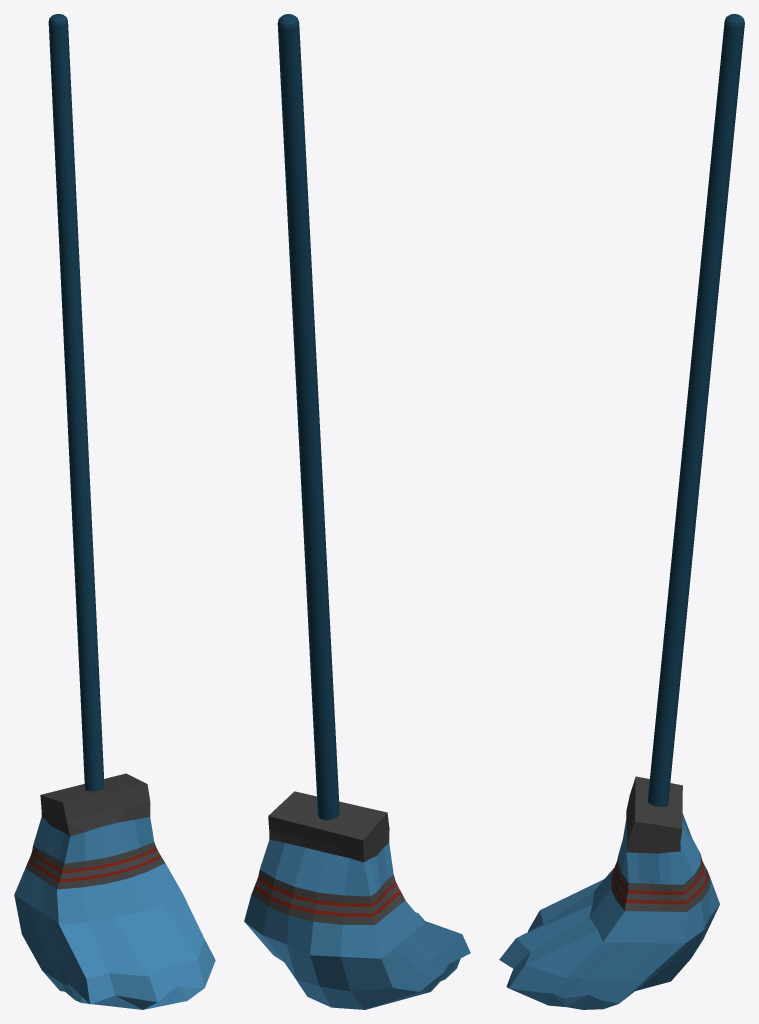
File: Mop.fbx
3 renders of one model, left to right at view 1: azimuth 30°, elevation 25°; view 2: azimuth 150°, elevation 25°; view 3: azimuth 270°, elevation 25°, orthographic. The views are drawn at different scales.
Parts seen in each view (by area): view 1: Mop; view 2: Mop; view 3: Mop.
Boxes of the visible parts, x1=… form: Mop: x1=14, y1=14, x2=215, y2=1009; Mop: x1=244, y1=14, x2=470, y2=1009; Mop: x1=499, y1=14, x2=744, y2=1009.
Size of the model in its own units: 28.28 by 181 by 41.85.
1 material, 1 textured.
